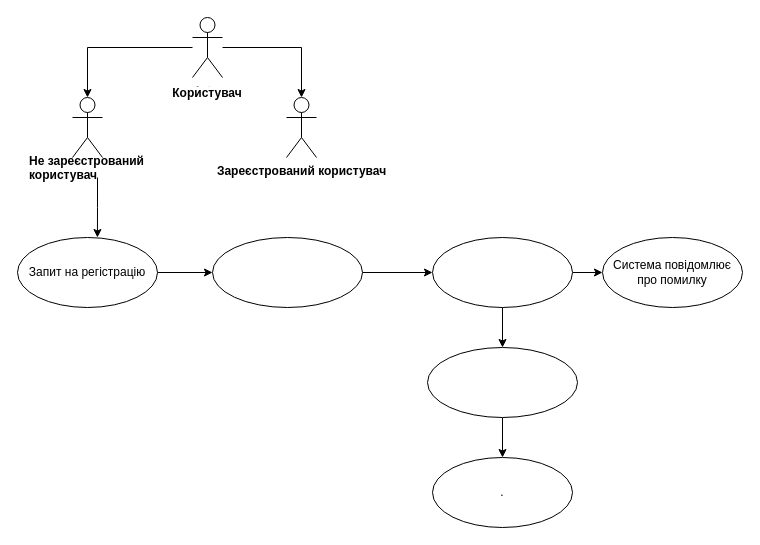
Image size: 760x545. Some labels were removed from this diagram. Each missing label, with the box of its shape:
Заповнення форми регістрації: (212, 236, 362, 308)
Збереження даних: (426, 346, 578, 418)
Перевірка даних системою: (432, 236, 572, 308)
